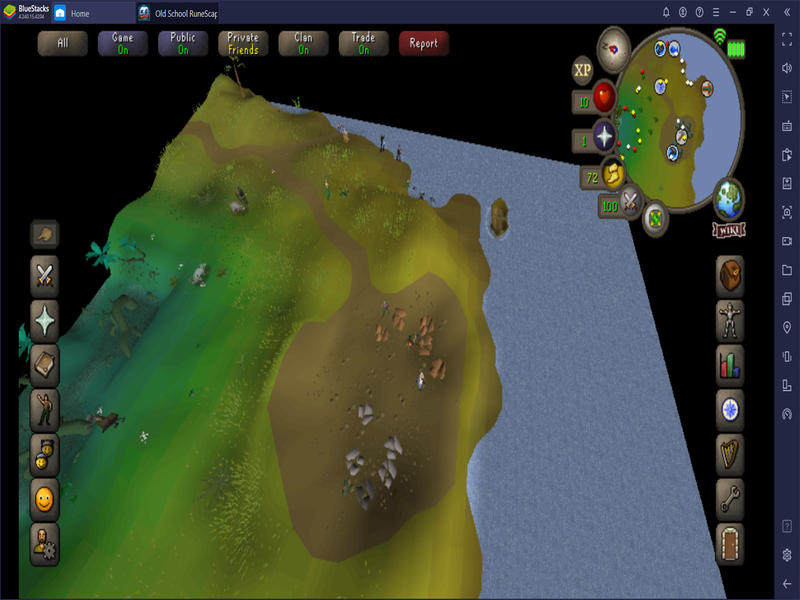copper_rock_1: (373, 322, 390, 345)
copper_rock_2: (390, 306, 410, 332)
